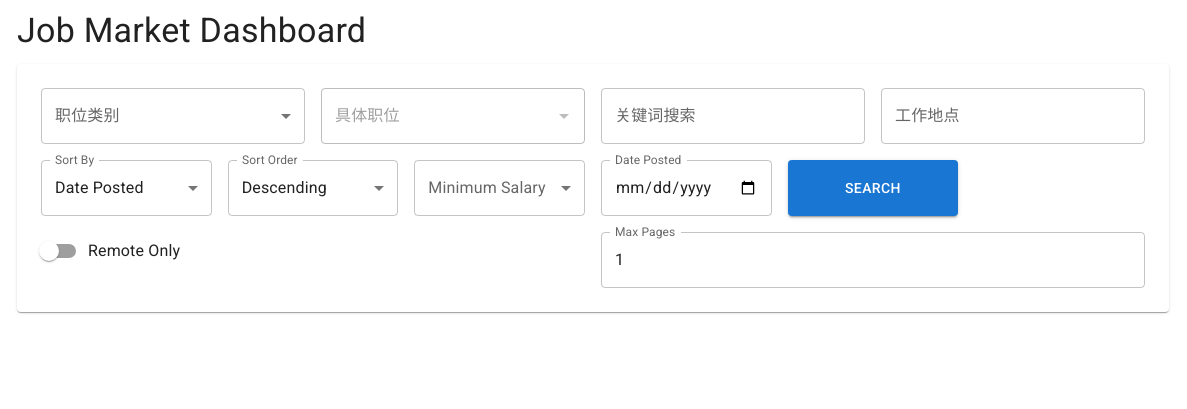
it: JobDashboard Component › shows error when search with empty query
Click the button "Search".
click(873, 188)  # box [788,160,958,216]
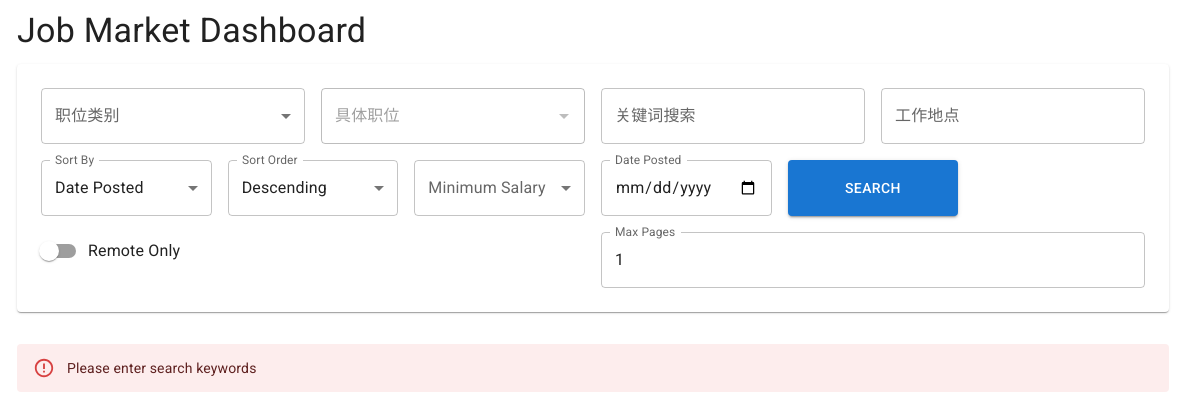
Check: the text "Please enter search keywords" is shown, box [67,360,256,376]
